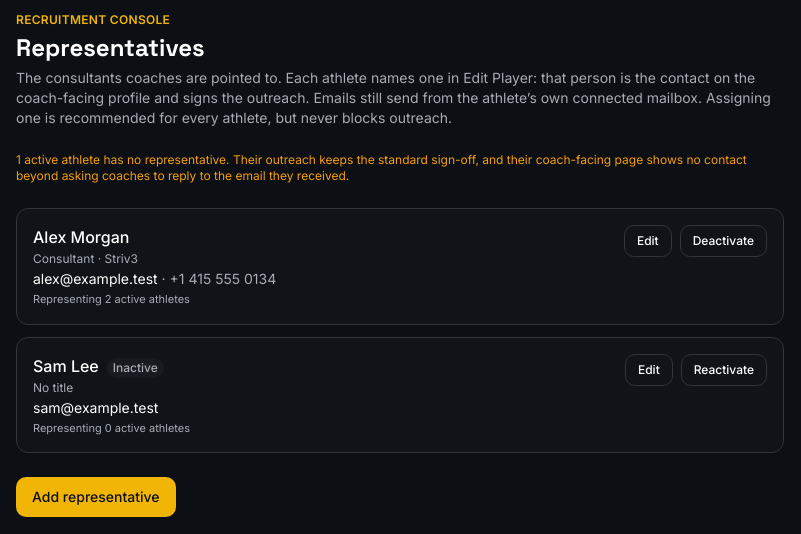
Test: the Representatives screen › deactivates rather than deletes
Click the button "Deactivate": point(723, 241) [680,225,767,257]
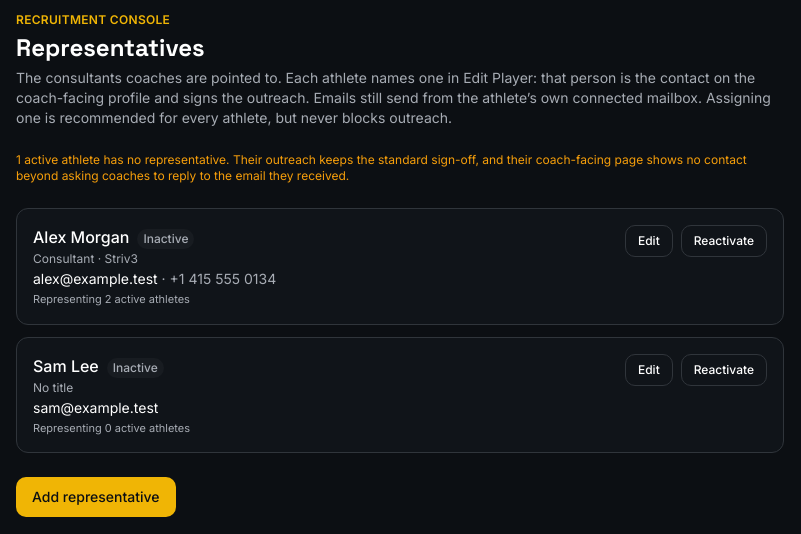
Check: the element with test id "representative-r1" shows "Inactive", box [143,231,188,246]
